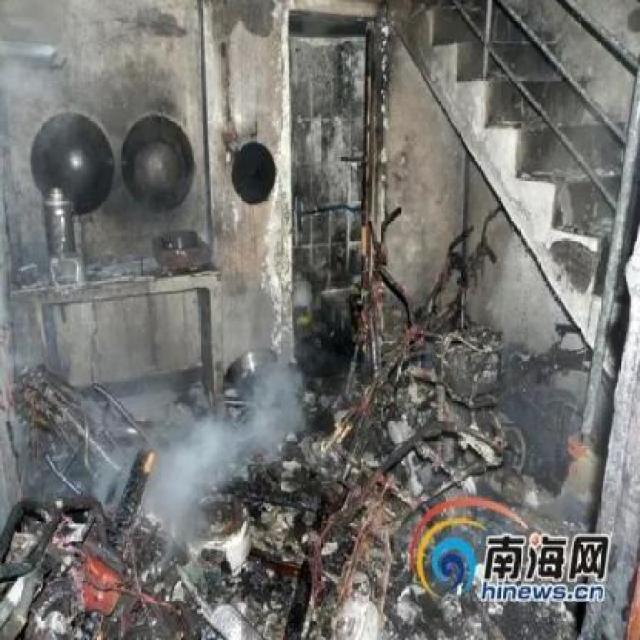Smoke: (114, 390, 296, 528)
